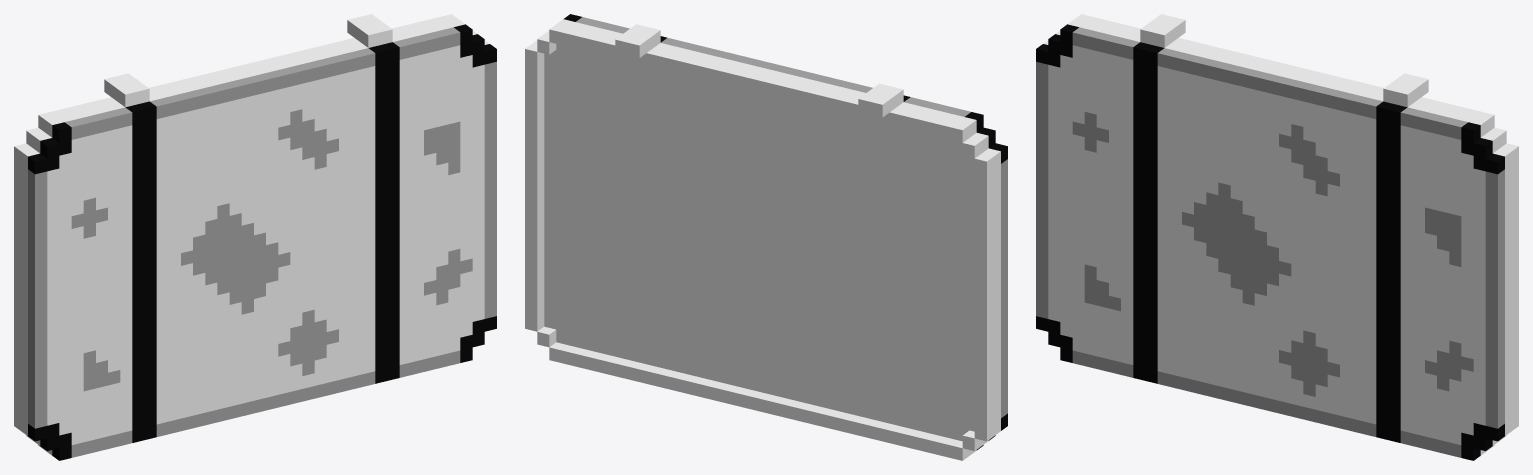
Rendered from suitcase_Top.obj.
The picture shows the model from 3 angles, left to right: view 1: azimuth 30°, elevation 25°; view 2: azimuth 150°, elevation 25°; view 3: azimuth 330°, elevation 25°; orthographic projection.
Size of the model in its own units: 3.8 by 2.7 by 0.4.
1 material, 1 textured.
